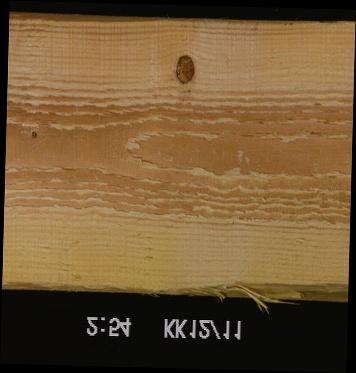dry_knot: (172, 53, 195, 86)
small_knot: (27, 128, 39, 141)
wave: (1, 276, 348, 300), (8, 12, 355, 30)
